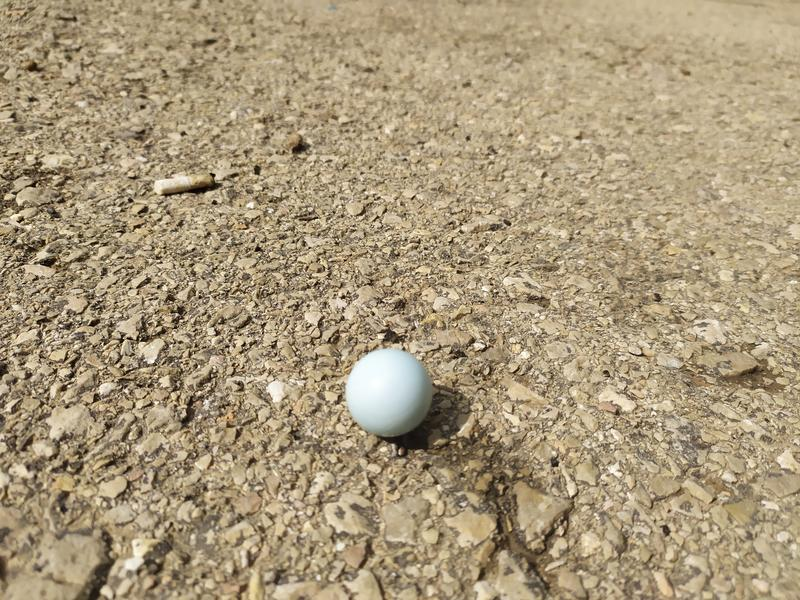Warning: (342, 345, 437, 440)
